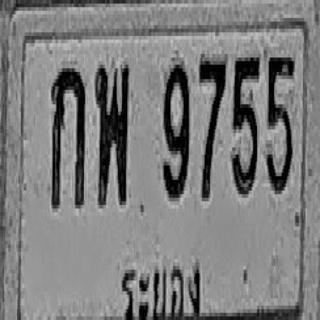A01: (50, 65, 84, 209)
A30: (95, 61, 128, 205)
N05: (231, 54, 260, 194), (266, 52, 294, 192)
N07: (199, 56, 226, 200)
N09: (163, 61, 189, 198)
P53: (116, 249, 209, 320)
